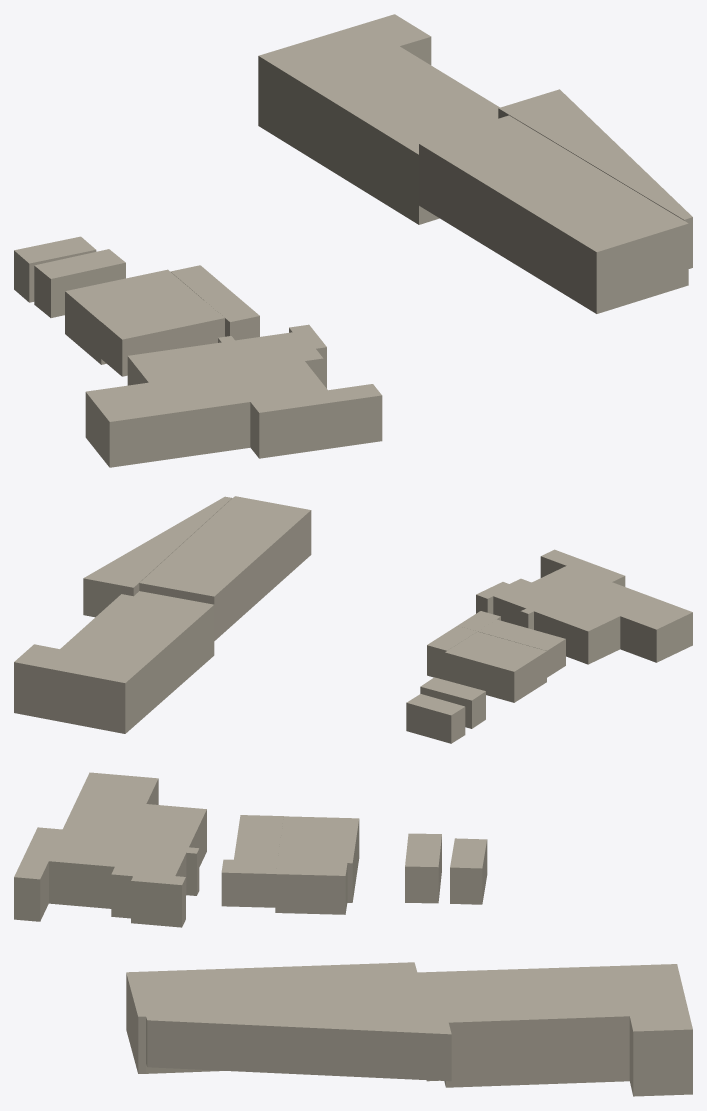
The model's file is senglea_58_31_collision.glb.
The picture shows the model from 3 angles, top to bottom: view 1: azimuth 30°, elevation 25°; view 2: azimuth 150°, elevation 25°; view 3: azimuth 270°, elevation 25°; orthographic projection. The views are drawn at different scales.
Parts seen in each view (by area): view 1: geometry_0; view 2: geometry_0; view 3: geometry_0.
Part boxes in pixels (<box>): geometry_0: <box>14,14,692,467</box>; geometry_0: <box>14,496,692,743</box>; geometry_0: <box>14,772,692,1096</box>.
Size of the model in its own units: 189 by 23.99 by 186.
